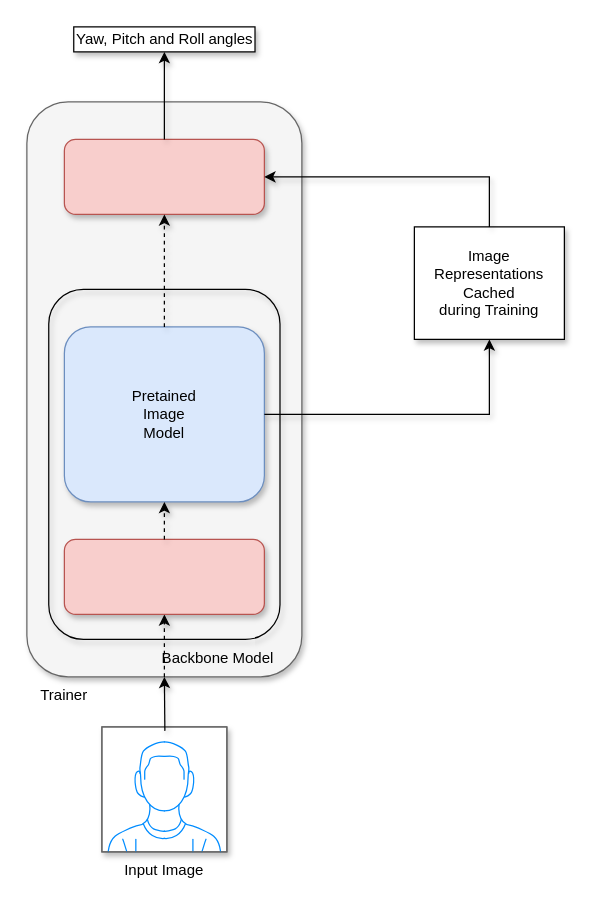
The diagram is 594 pixels wide and 920 high, and some of its shapes have lost their labels. Each missing label, with the centre of its shape:
"Angle Prediction Head" goes at pixel 165 178.
"Image Preprocessing Steps" goes at pixel 165 578.
